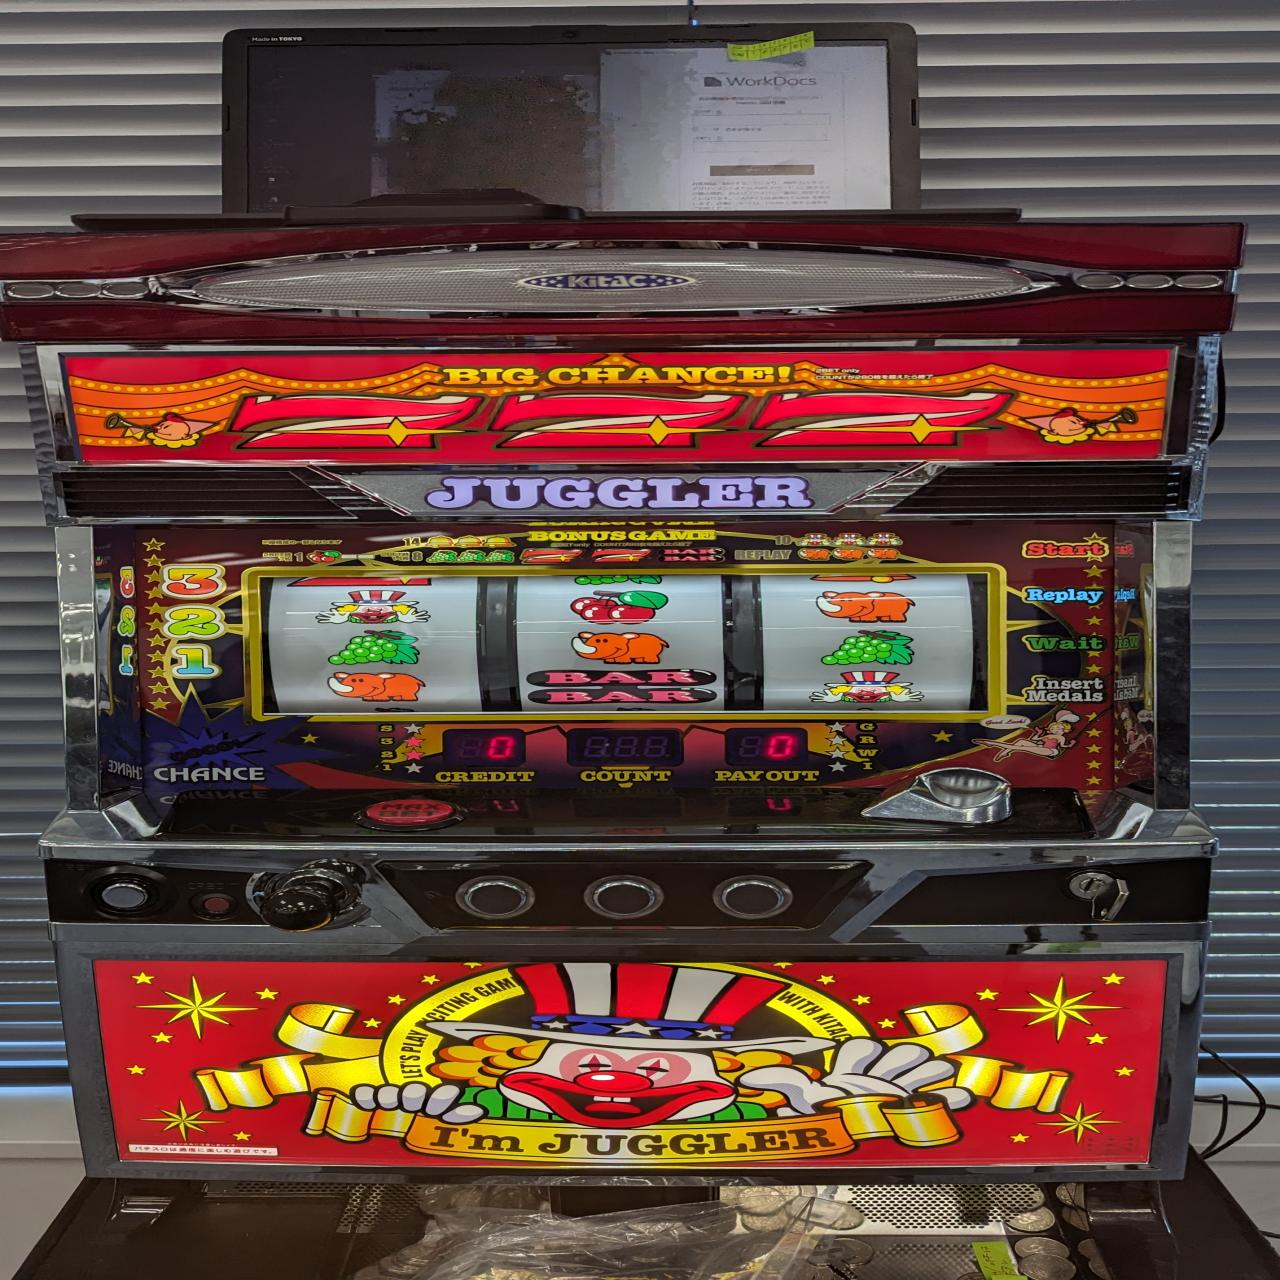Display: (253, 568, 995, 713)
bar: (524, 669, 721, 707)
cherry: (567, 588, 672, 626)
clown: (804, 669, 930, 707), (315, 588, 433, 626)
grape: (816, 629, 919, 668), (326, 629, 423, 668)
rhino: (815, 588, 920, 626), (568, 629, 673, 667), (325, 670, 429, 704)
